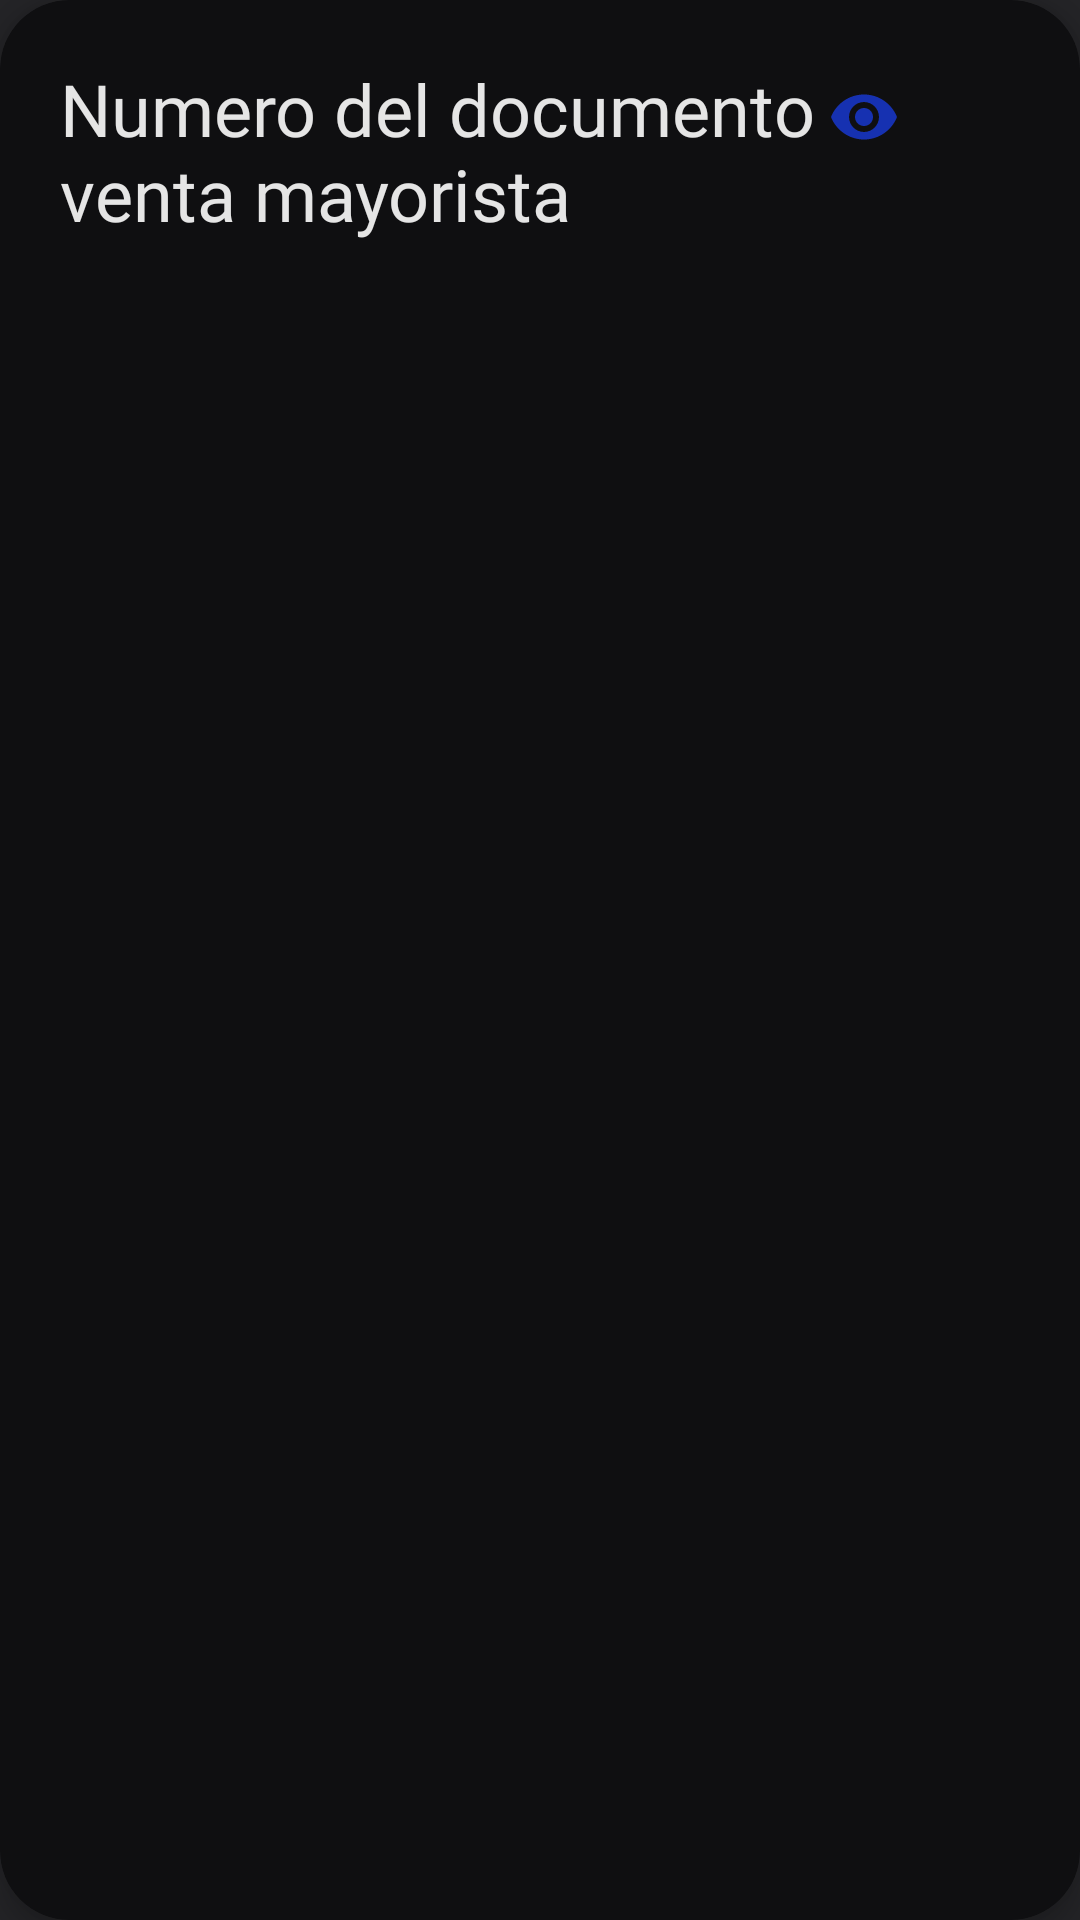

Where icons sit on this 1080 × 1920 app screen, as rect(x1, y1, x2, y2):
revisar documento: rect(831, 94, 897, 140)
